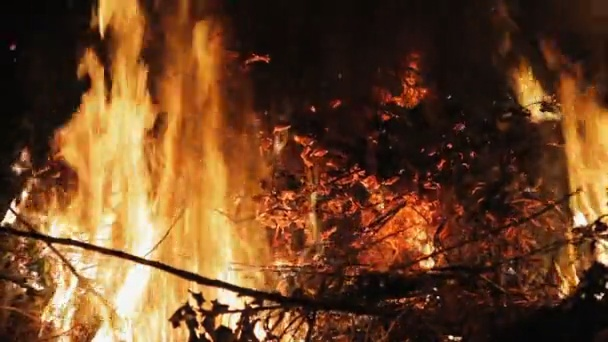fire: (36, 2, 260, 342), (562, 70, 608, 262), (518, 65, 544, 120)
